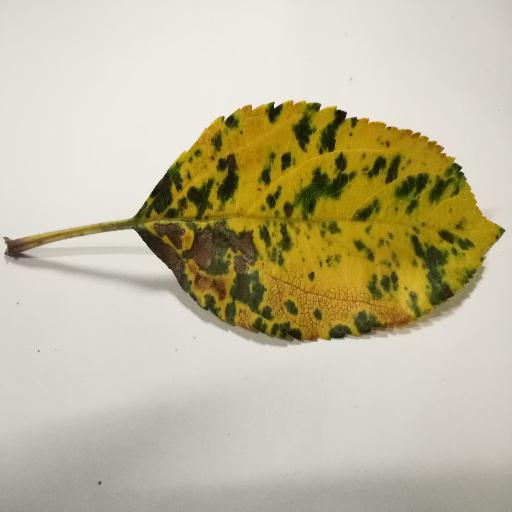Brown_Spot: (156, 220, 268, 320)
